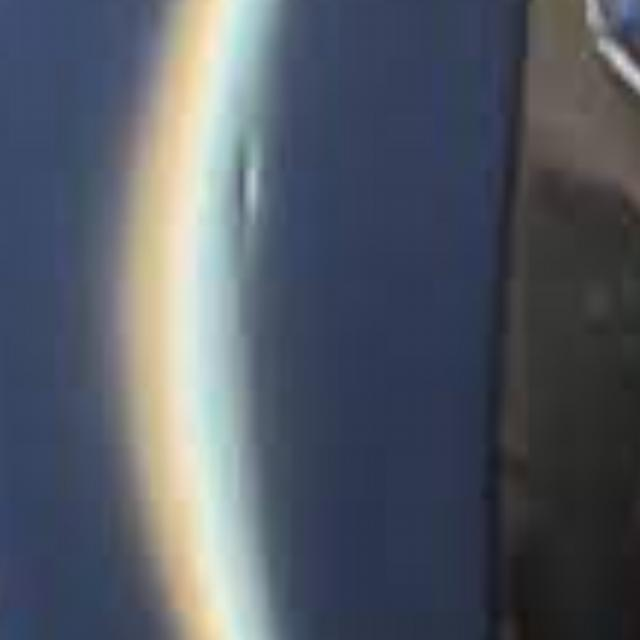dents: (217, 91, 283, 301)
